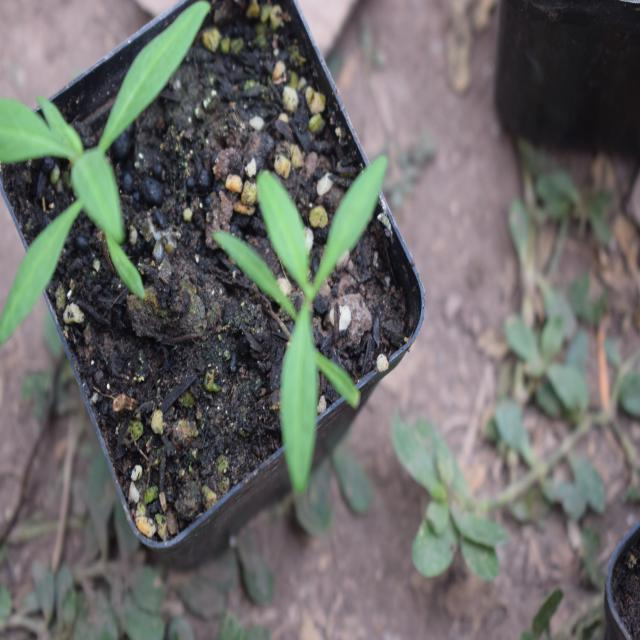white_smart_weed: (0, 7, 231, 283)
